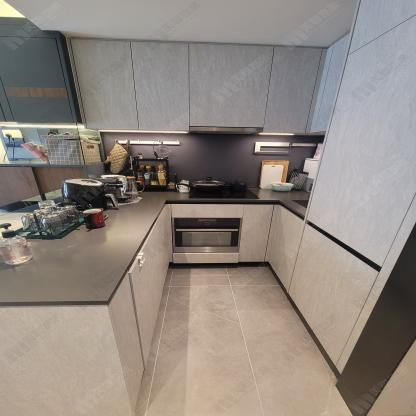Cupboard: (66, 0, 416, 377), (0, 203, 172, 416), (0, 15, 85, 128), (166, 204, 278, 263)
Exhaust Hood: (189, 126, 263, 135)
Microwave: (172, 218, 242, 253)
Sink: (292, 199, 309, 208)
Stove: (188, 182, 260, 198)
